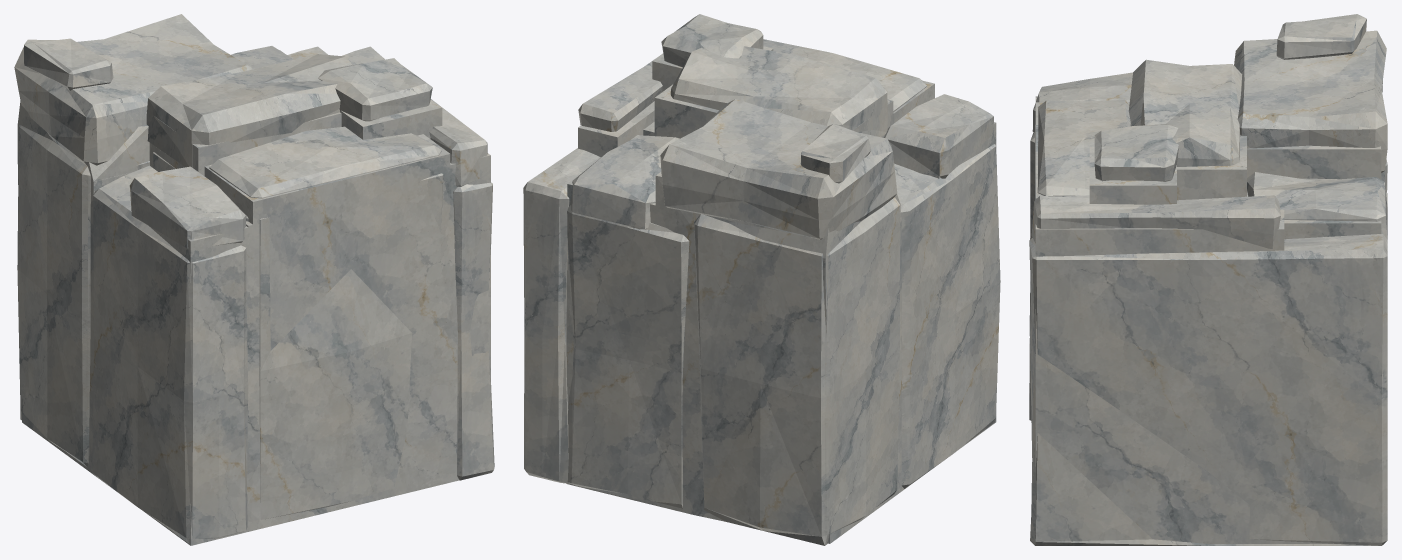
The model's file is wall_stone_04.glb.
3 views of the same model, side by side, from view 1: azimuth 30°, elevation 25°; view 2: azimuth 150°, elevation 25°; view 3: azimuth 270°, elevation 25° (orthographic).
Visible parts, largest first — view 1: WallStone04; view 2: WallStone04; view 3: WallStone04.
Part boxes in pixels (box(x1,y1,x2,y2)): WallStone04: box(14, 14, 494, 545); WallStone04: box(523, 14, 1000, 545); WallStone04: box(1029, 14, 1387, 545).
Size of the model in its own units: 1 by 1.18 by 1.
Materials: 1 (1 with a texture image).
